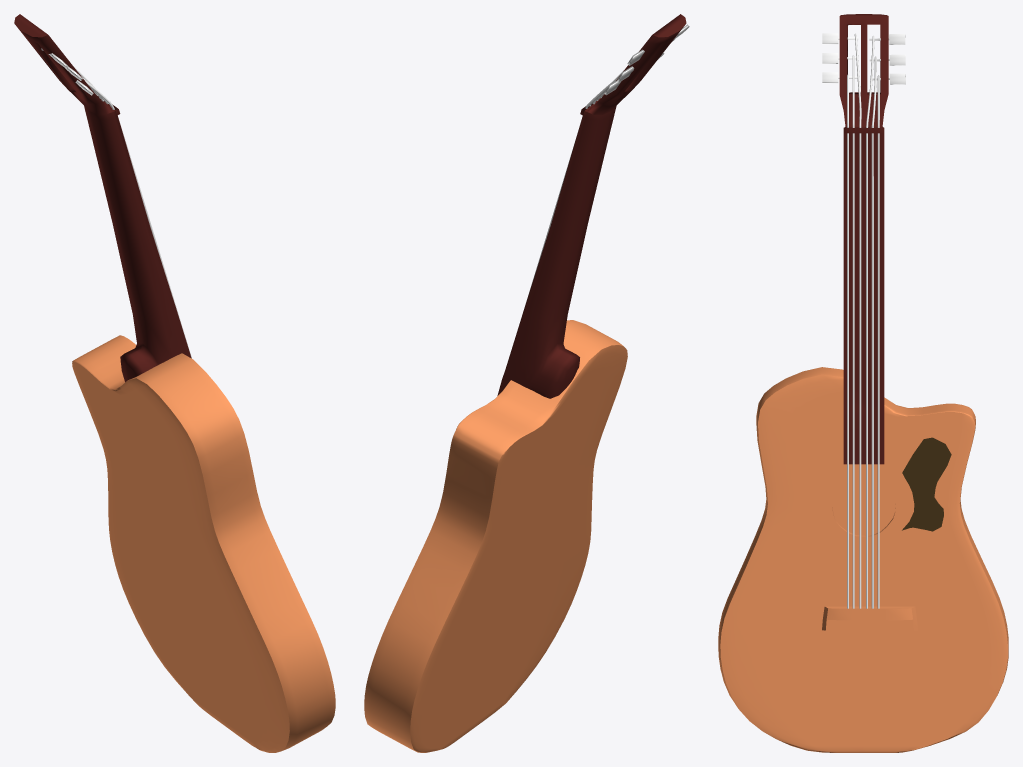
File: GUITAR.fbx
3 views of the same model, side by side, from view 1: azimuth 30°, elevation 25°; view 2: azimuth 150°, elevation 25°; view 3: azimuth 270°, elevation 25° (orthographic). The views are drawn at different scales.
Parts seen in each view (by area): view 1: Object_4, Object_7; view 2: Object_4, Object_7; view 3: Object_4, Object_7, Object_5, Object_35, Object_31, Object_29, Object_25, Object_33, Object_27.
Boxes of the visible parts, left/top/right/bottom form: Object_4: left=72, top=335, right=335, bottom=752; Object_7: left=14, top=14, right=191, bottom=382; Object_4: left=364, top=320, right=627, bottom=752; Object_7: left=497, top=14, right=686, bottom=398; Object_4: left=718, top=367, right=1008, bottom=752; Object_7: left=839, top=14, right=888, bottom=464; Object_5: left=902, top=437, right=951, bottom=531; Object_35: left=854, top=33, right=861, bottom=608; Object_31: left=852, top=55, right=854, bottom=608; Object_29: left=871, top=56, right=876, bottom=608; Object_25: left=877, top=75, right=879, bottom=608; Object_33: left=866, top=35, right=874, bottom=608; Object_27: left=847, top=74, right=848, bottom=608.
Bounding box in the file's own units: 245 × 695 × 282.
